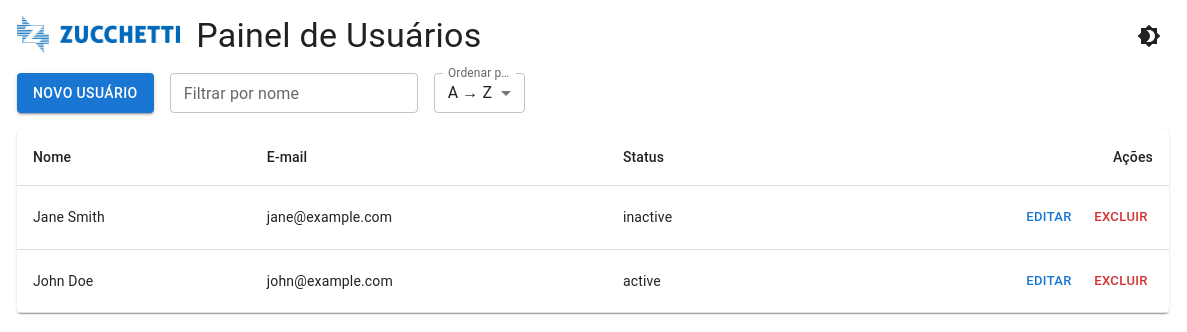
Test case: UsersPage › exibe botão de tema e alterna entre claro e escuro ao clicar
Check: the text "John Doe" is shown, box [17, 249, 251, 313]
Click the button named "ativar tema escuro" at (1149, 36), box [1129, 16, 1169, 56]
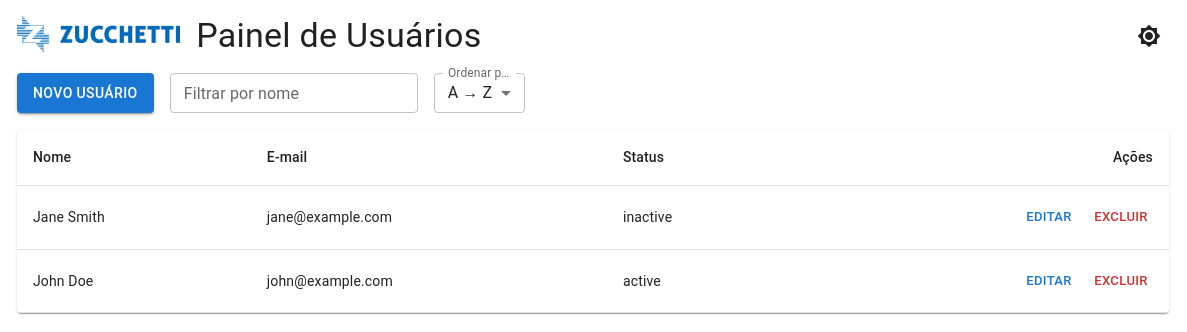
Check: the button named "ativar tema claro" is shown
Click the button named "ativar tema claro" at (1149, 36), box [1129, 16, 1169, 56]
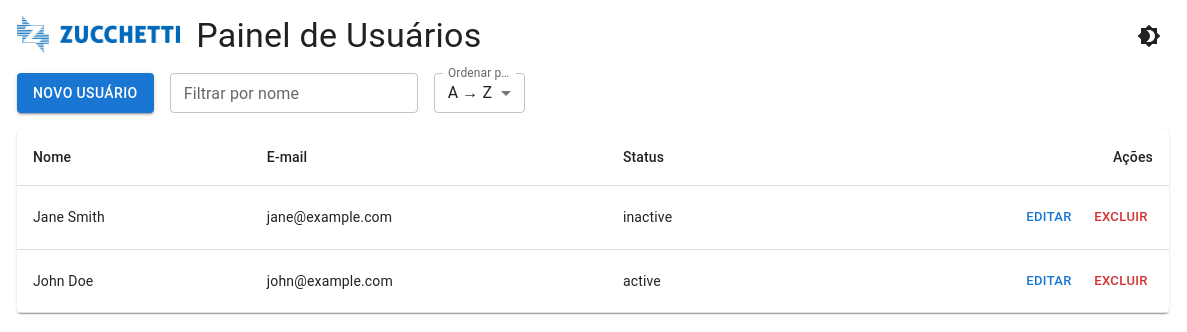
Check: the button named "ativar tema escuro" is shown, box [1129, 16, 1169, 56]
